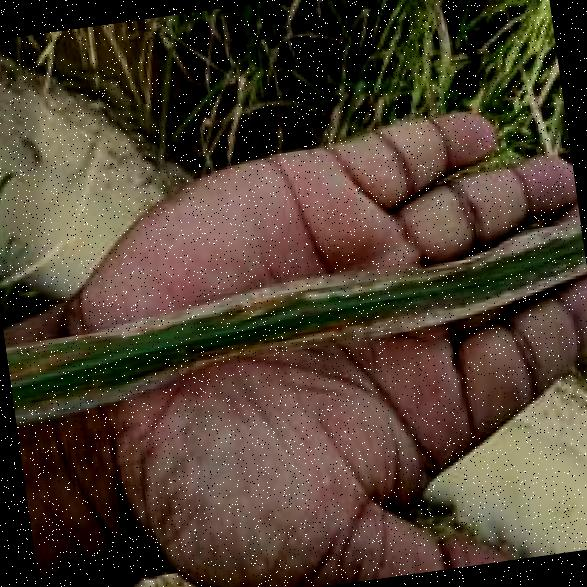Bacteria_Leaf_Blight: (9, 224, 587, 402)
